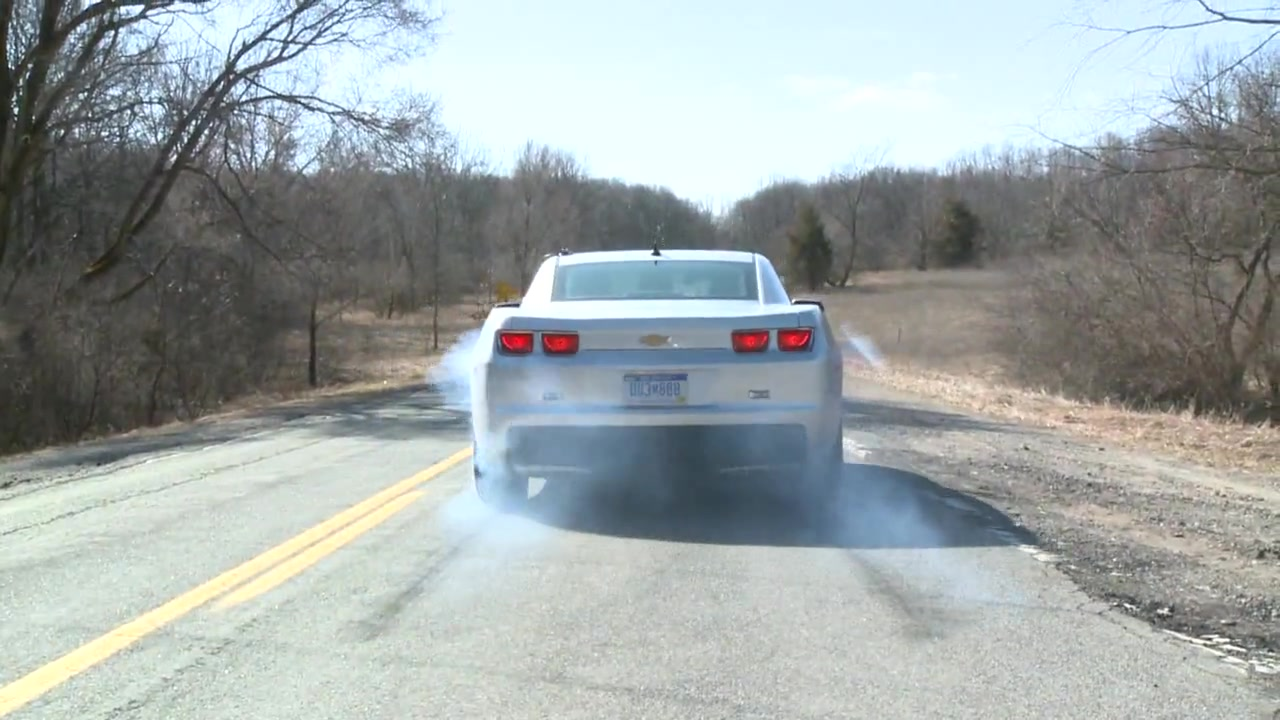car: (466, 249, 851, 525)
